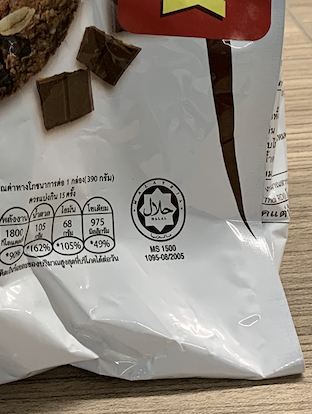halal: (136, 180, 185, 236)
